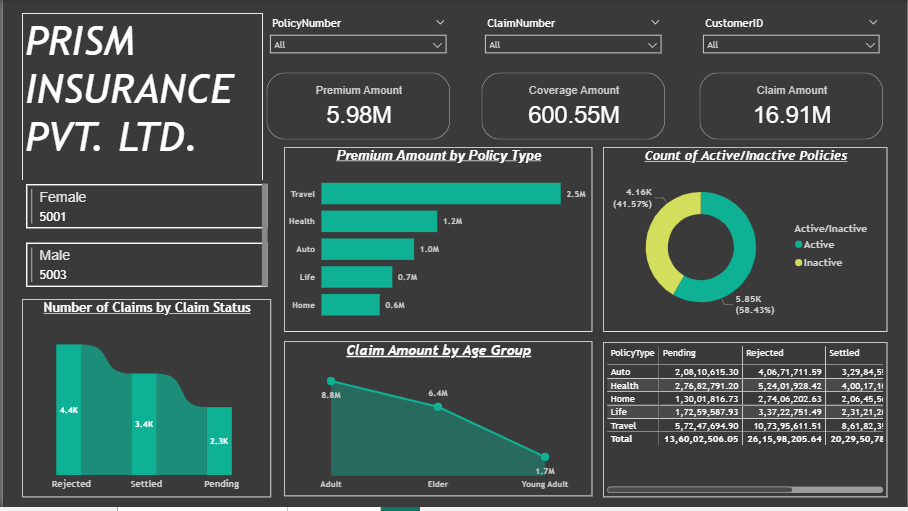

This screenshot's page, from the dashboard's own definition file:
{"tool":"powerbi","page":{"name":"Insurance Data Analysis","canvas":[1280,720],"ordinal":0},"visuals":[{"type":"slicer","fields":{"Values":["InsuranceData.PolicyNumber"]},"box":[367.9,20.2,270.4,79],"z":0},{"type":"slicer","fields":{"Values":["InsuranceData.ClaimNumber"]},"box":[673.6,20.2,270.4,79],"z":1000},{"type":"slicer","fields":{"Values":["InsuranceData.CustomerID"]},"box":[982.7,20.2,270.4,79],"z":2000},{"type":"textbox","box":[26.9,20.2,341,300.7],"z":3000},{"type":"cardVisual","fields":{"Data":["Sum(InsuranceData.PremiumAmount)"]},"box":[367.9,99.1,270.4,105.8],"z":4000},{"type":"cardVisual","fields":{"Data":["Sum(InsuranceData.CoverageAmount)"]},"box":[673.6,99.1,270.4,105.8],"z":5000},{"type":"cardVisual","fields":{"Data":["Sum(InsuranceData.ClaimAmount)"]},"box":[982.7,99.1,270.4,105.8],"z":6000},{"type":"multiRowCard","fields":{"Values":["InsuranceData.Gender","CountNonNull(InsuranceData.Gender)"]},"box":[26.9,257,352.8,168],"z":7000},{"type":"ribbonChart","title":"Number of Claims by Claim Status","fields":{"Y":["CountNonNull(InsuranceData.ClaimStatus)"],"Category":["InsuranceData.ClaimStatus"]},"box":[26.9,425,352.8,280.5],"z":8000},{"type":"barChart","title":"Premium Amount by Policy Type","fields":{"Y":["Sum(InsuranceData.PremiumAmount)"],"Category":["InsuranceData.PolicyType"]},"box":[398.3,210,436.7,261.7],"z":9000},{"type":"lineChart","title":"Claim Amount by Age Group","fields":{"Category":["InsuranceData.Age Group"],"Y":["Sum(InsuranceData.ClaimAmount)"]},"box":[398.3,485,436.7,220],"z":10000},{"type":"donutChart","title":"Count of Active/Inactive Policies","fields":{"Category":["InsuranceData.Active/Inactive"],"Y":["CountNonNull(InsuranceData.Active/Inactive)"]},"box":[850,210,403.3,261.7],"z":11000},{"type":"pivotTable","fields":{"Values":["Sum(InsuranceData.CoverageAmount)"],"Rows":["InsuranceData.PolicyType"],"Columns":["InsuranceData.ClaimStatus"]},"box":[850,485.7,402.9,220],"z":12000}]}

Visuals, with their boxes in screenshot pixels (x1, y1, x2, y2), scaled from the page's 1280x720 canvas onto the 908x511 screenshot:
slicer - InsuranceData.PolicyNumber: (x1=261, y1=14, x2=453, y2=70)
slicer - InsuranceData.ClaimNumber: (x1=478, y1=14, x2=670, y2=70)
slicer - InsuranceData.CustomerID: (x1=697, y1=14, x2=889, y2=70)
textbox: (x1=19, y1=14, x2=261, y2=228)
cardVisual - Sum(InsuranceData.PremiumAmount): (x1=261, y1=70, x2=453, y2=145)
cardVisual - Sum(InsuranceData.CoverageAmount): (x1=478, y1=70, x2=670, y2=145)
cardVisual - Sum(InsuranceData.ClaimAmount): (x1=697, y1=70, x2=889, y2=145)
multiRowCard - InsuranceData.Gender x CountNonNull(InsuranceData.Gender): (x1=19, y1=182, x2=269, y2=302)
"Number of Claims by Claim Status" ribbonChart: (x1=19, y1=302, x2=269, y2=501)
"Premium Amount by Policy Type" barChart: (x1=283, y1=149, x2=592, y2=335)
"Claim Amount by Age Group" lineChart: (x1=283, y1=344, x2=592, y2=500)
"Count of Active/Inactive Policies" donutChart: (x1=603, y1=149, x2=889, y2=335)
pivotTable - Sum(InsuranceData.CoverageAmount) x InsuranceData.PolicyType: (x1=603, y1=345, x2=889, y2=501)
